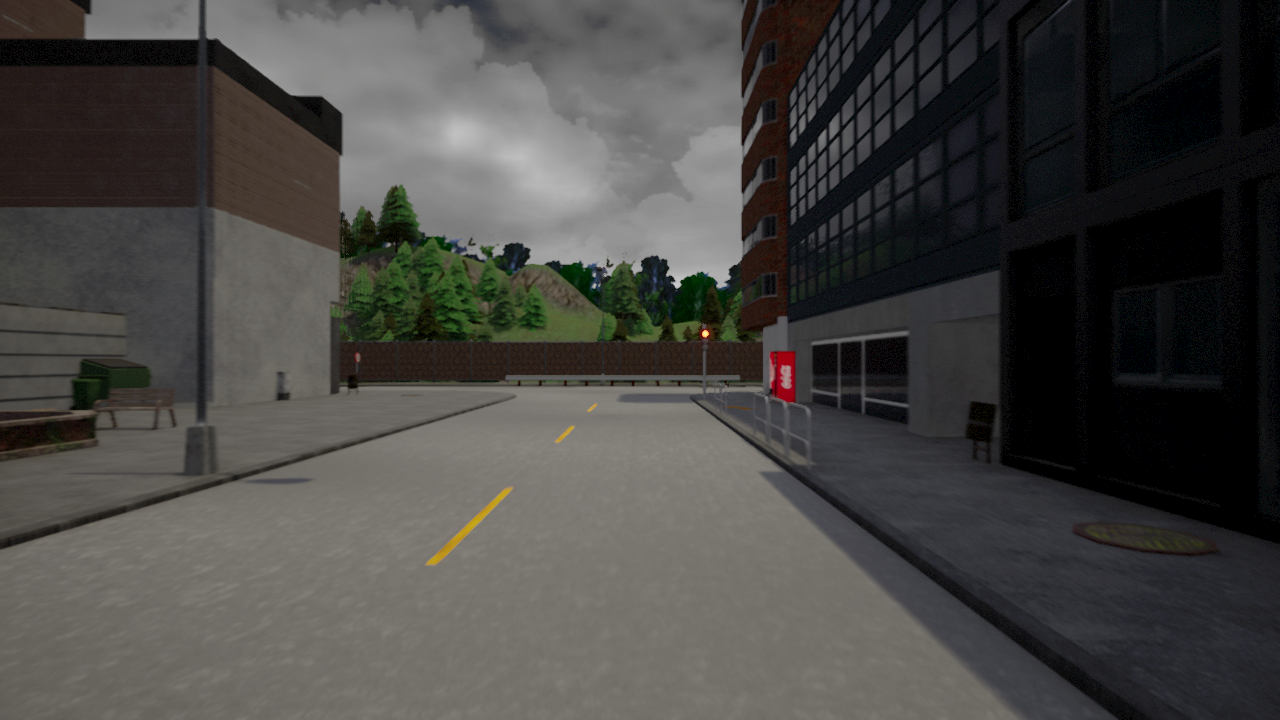red: (701, 327, 710, 350)
